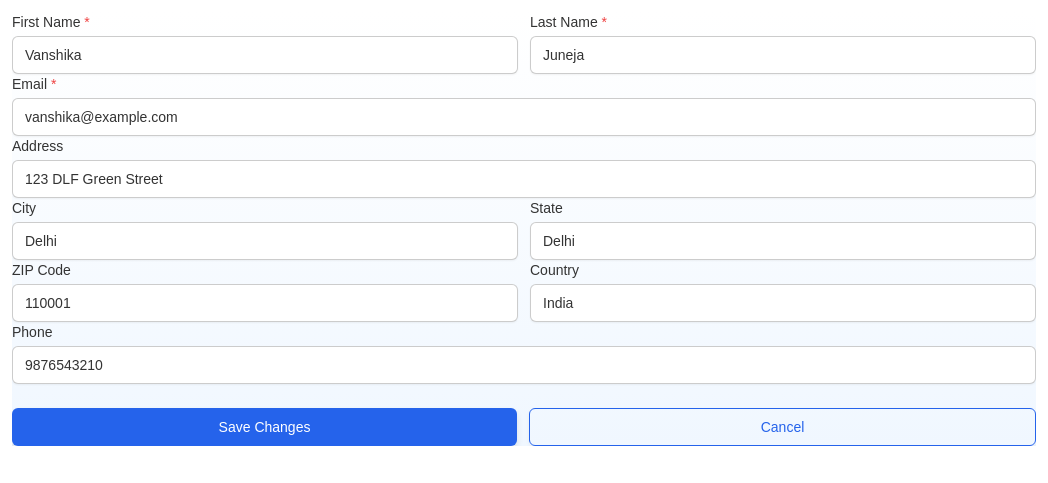
Test: ProfileForm › validation › shows error for invalid email format
The width and height of the screenshot is (1048, 483).
Replace the text in the field labelled "Email *" with "invalid-email" at (524, 117), box x1=12 y1=98 x2=1036 y2=136
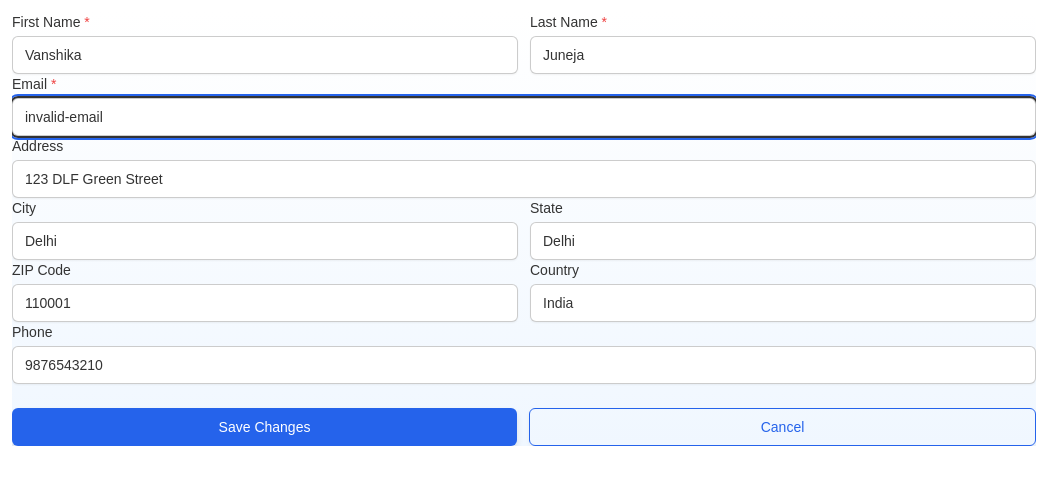
// Trigger blur to validate
Leave the field labelled "Email *", box x1=12 y1=98 x2=1036 y2=136
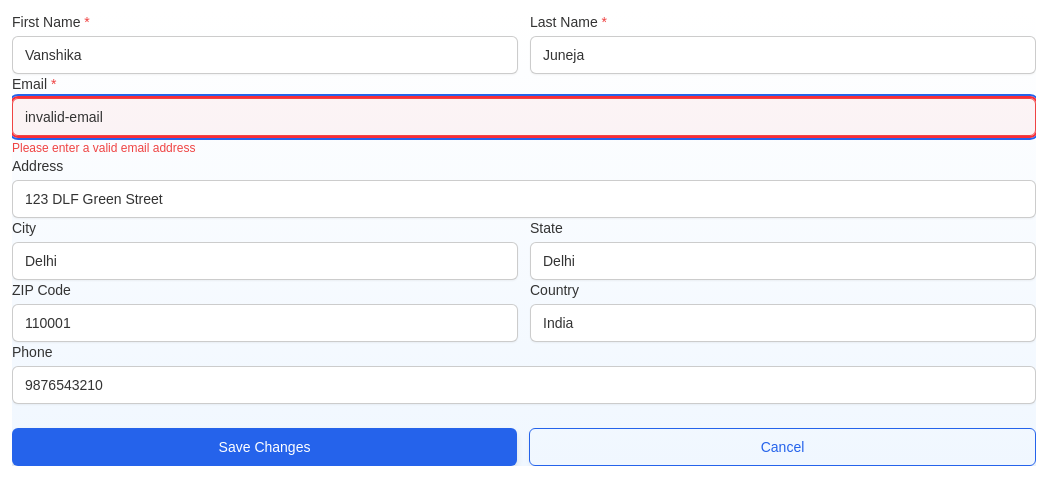
Check: the text "Please enter a valid email address" is shown, box x1=12 y1=141 x2=195 y2=155
